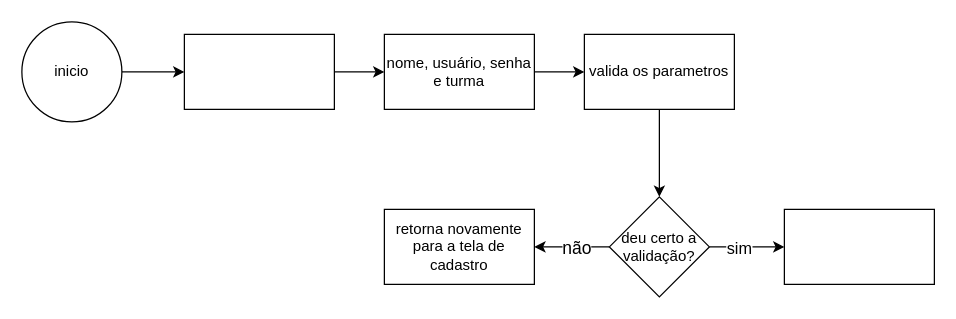
This 956x319 diagram has some shape labels left out. Each missing label, with the centre of its shape:
leva para tela de login: the point at 858,246
tela de cadastro usuario: the point at 258,71
